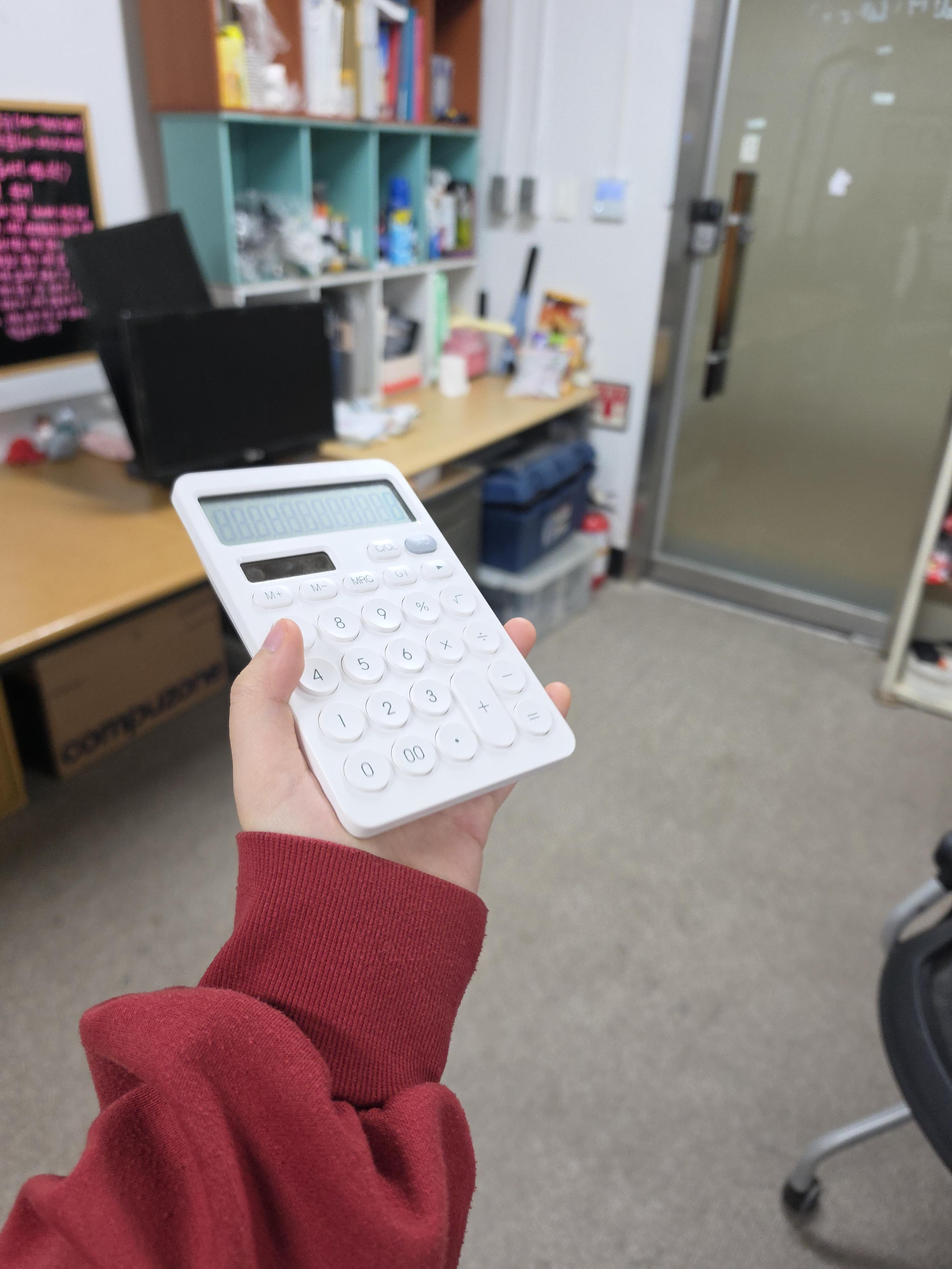calculator: (170, 458, 576, 839)
